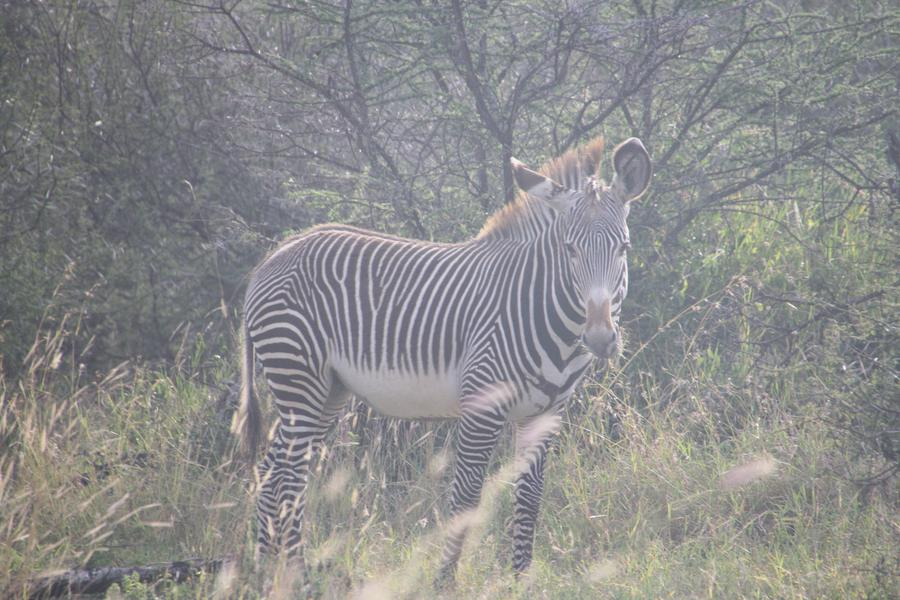zebra_grevys: (246, 200, 538, 416)
